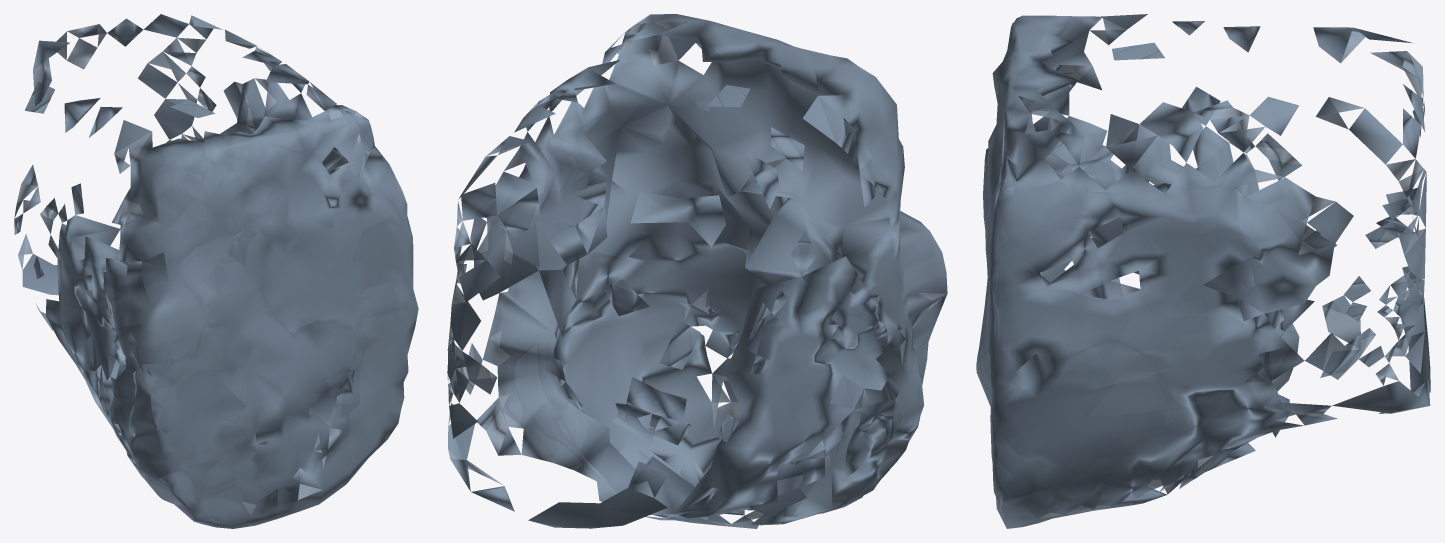
The model's file is toilet_0052_recon.obj.
3 views of the same model, side by side, from view 1: azimuth 30°, elevation 25°; view 2: azimuth 150°, elevation 25°; view 3: azimuth 270°, elevation 25° (orthographic). The views are drawn at different scales.
Size of the model in its own units: 0.9968 by 1.31 by 1.19.
